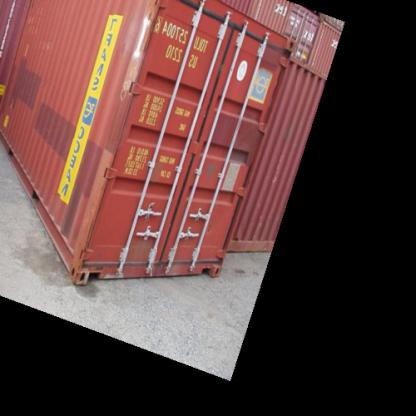Damage: (64, 171, 111, 269), (116, 1, 156, 99), (124, 242, 191, 274)
